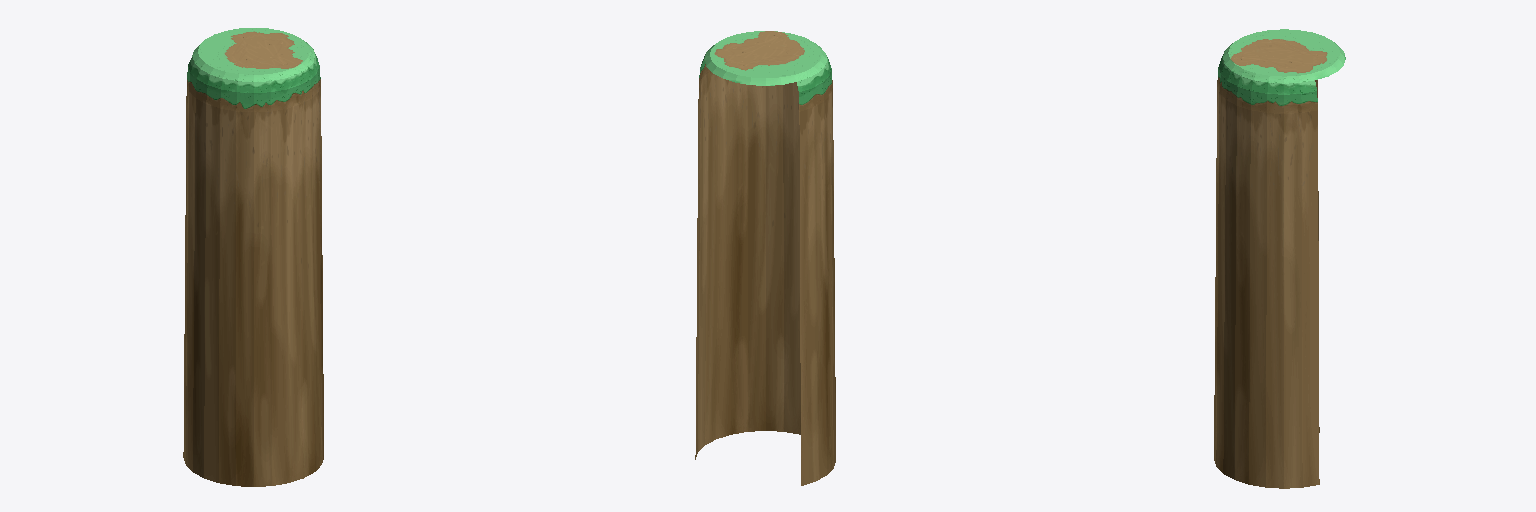
3 views of the same model, side by side, from view 1: azimuth 30°, elevation 25°; view 2: azimuth 150°, elevation 25°; view 3: azimuth 270°, elevation 25° (orthographic).
Visible parts, largest first — view 1: Hill1.001_Circle.001; view 2: Hill1.001_Circle.001; view 3: Hill1.001_Circle.001.
Boxes of the visible parts, x1=… form: Hill1.001_Circle.001: x1=183, y1=28, x2=323, y2=486; Hill1.001_Circle.001: x1=695, y1=31, x2=835, y2=485; Hill1.001_Circle.001: x1=1214, y1=29, x2=1345, y2=488.
Size of the model in its own units: 0.9358 by 2.98 by 0.8781.
1 materials, 1 textured.